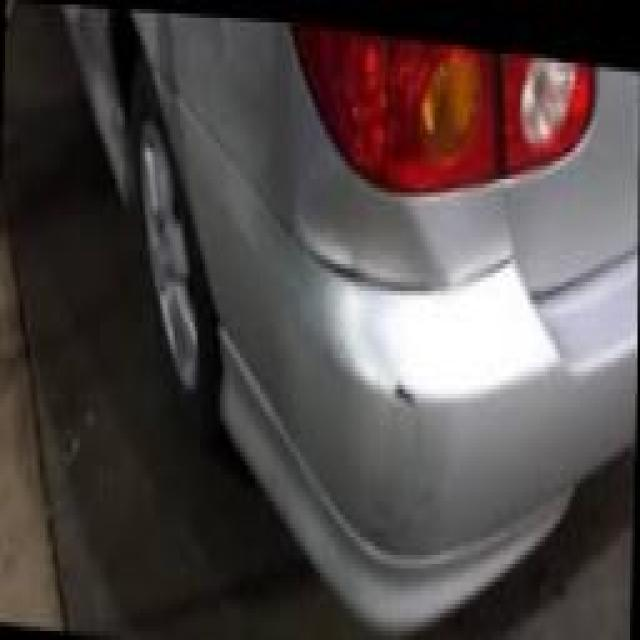Bumper: (163, 71, 582, 623)
Fender: (159, 10, 518, 286)
